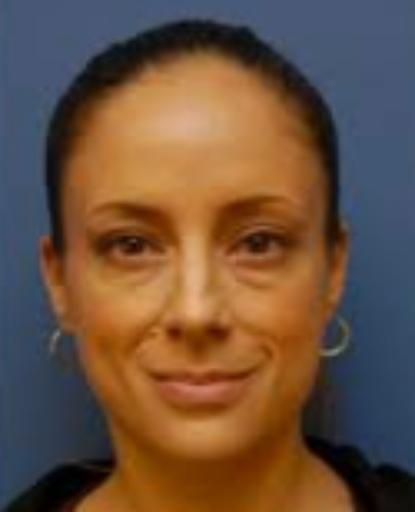left_eye: (229, 231, 294, 261)
left_lip_corner: (241, 361, 264, 383)
right_eye: (97, 235, 163, 265)
right_lip_corner: (141, 364, 166, 388)
